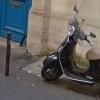Motorcycle: (34, 16, 100, 90)
